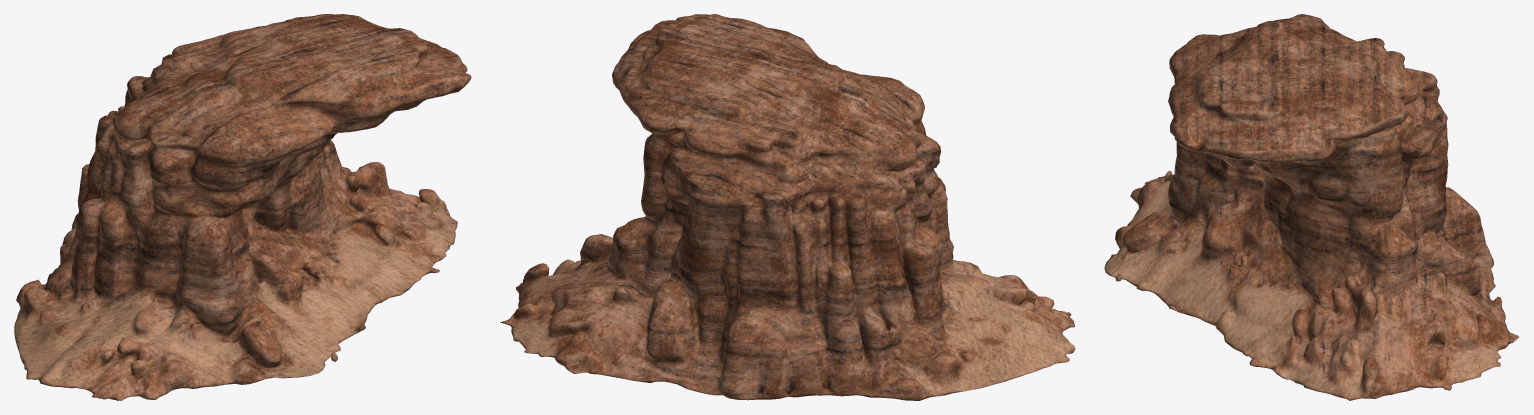
The model's file is cliff.glb.
3 renders of one model, left to right at view 1: azimuth 30°, elevation 25°; view 2: azimuth 150°, elevation 25°; view 3: azimuth 270°, elevation 25°, orthographic.
Visible parts, largest first — view 1: Des_Cliff_low; view 2: Des_Cliff_low; view 3: Des_Cliff_low.
Boxes of the visible parts, left/top/right/bottom form: Des_Cliff_low: left=14, top=14, right=471, bottom=400; Des_Cliff_low: left=500, top=14, right=1075, bottom=400; Des_Cliff_low: left=1104, top=14, right=1519, bottom=400.
Size of the model in its own units: 188 by 90.72 by 137.
1 material, 1 textured.
